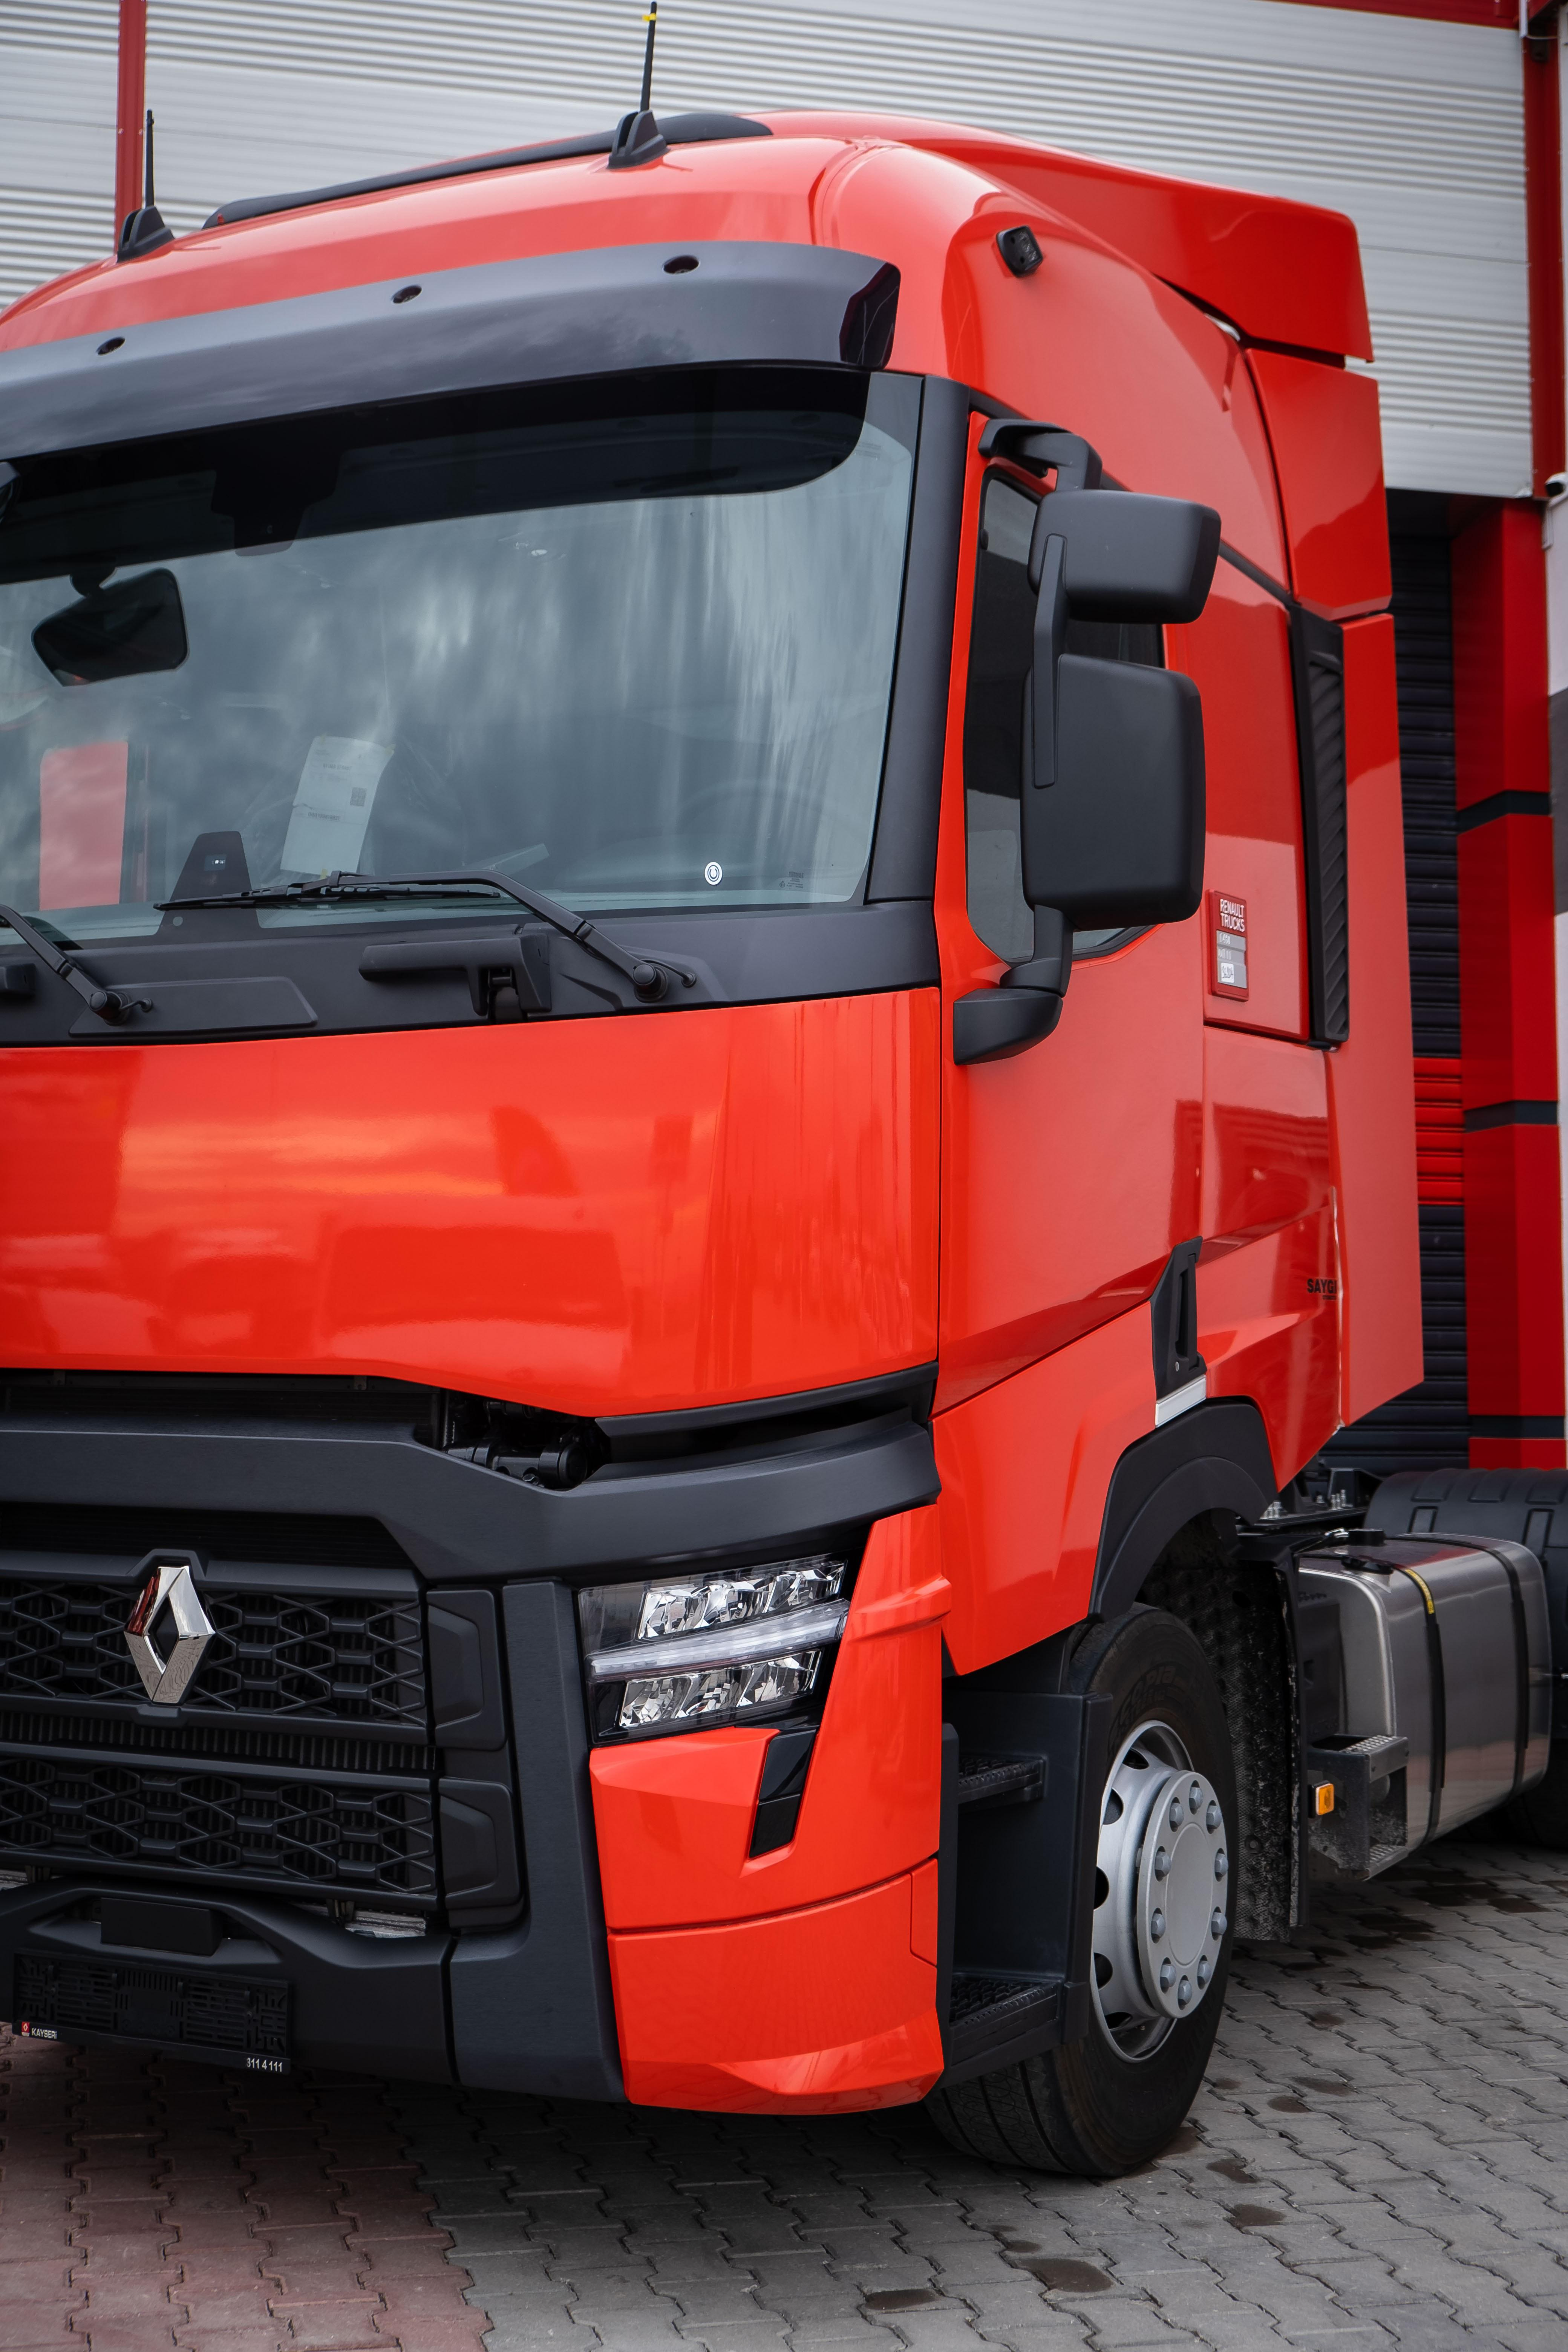Renault: (84, 1524, 250, 1755)
